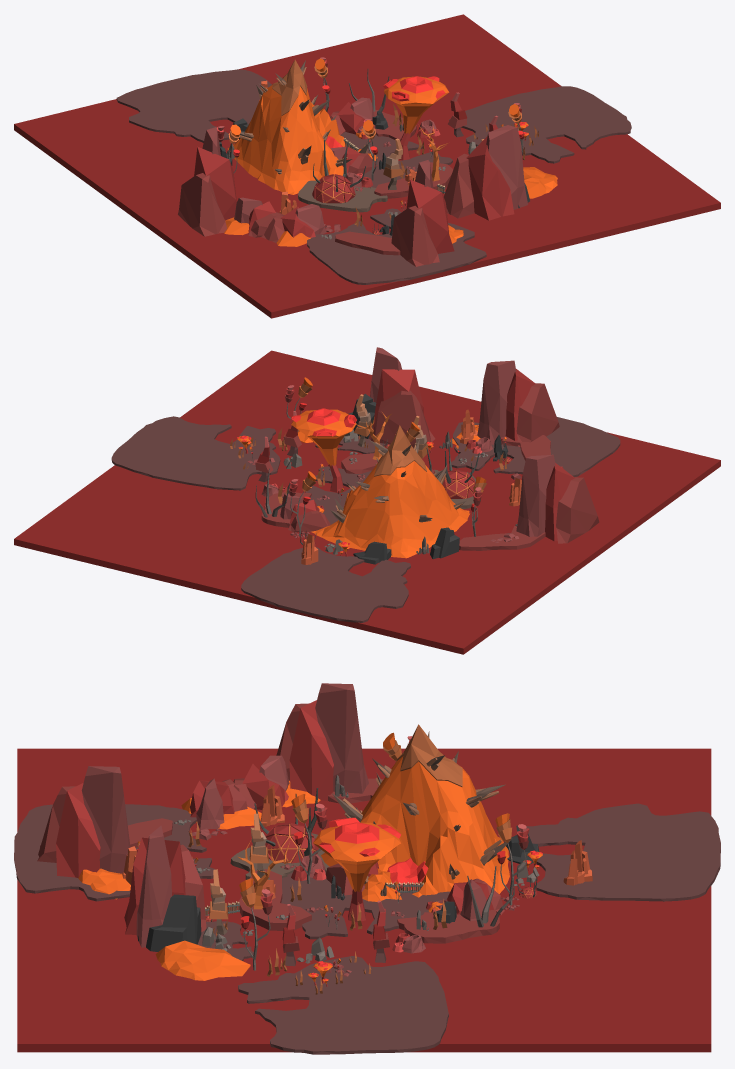
Rendered from Red_Alien_Shelter.fbx.
The picture shows the model from 3 angles, top to bottom: view 1: azimuth 30°, elevation 25°; view 2: azimuth 150°, elevation 25°; view 3: azimuth 270°, elevation 25°; orthographic projection. The views are drawn at different scales.
Visible parts, largest first — view 1: Ground_1, Landscape_2_Ground_1_1, Landscape_Spline_4, Landscape_Spline_5, Rock_9_1, Landscape_Spline_2, Rock_9_2, Rock_9_4, Cylinder_5, Landscape_Spline, Rock_9_5, Cylinder_2 (+10 smaller); view 2: Ground_1, Landscape_2_Ground_1_1, Landscape_Spline_5, Landscape_Spline_4, Rock_9_2, Rock_9_4, Landscape_Spline_2, Rock_9_1, Cylinder_5, Landscape_Spline, Rock_9_9, Landscape_Spline_6 (+9 smaller); view 3: Ground_1, Landscape_Spline_4, Landscape_Spline_5, Landscape_2_Ground_1_1, Rock_9_2, Rock_9_4, Rock_9_1, Landscape_Spline_2, Landscape_Spline, Cylinder_5, Sphere_5, rocks07_1 (+26 smaller).
Part boxes in pixels (x1,y1,x2,y2): Ground_1: (14,14,720,318); Landscape_2_Ground_1_1: (227,59,377,194); Landscape_Spline_4: (449,86,631,163); Landscape_Spline_5: (116,69,271,142); Rock_9_1: (444,125,527,220); Landscape_Spline_2: (307,208,486,284); Rock_9_2: (178,127,236,236); Rock_9_4: (391,160,454,266); Cylinder_5: (383,76,449,160); Landscape_Spline: (340,132,452,188); Rock_9_5: (261,204,326,242); Cylinder_2: (312,140,365,203); Ground_1: (14,350,720,654); Landscape_2_Ground_1_1: (311,425,469,558); Landscape_Spline_5: (241,547,410,622); Landscape_Spline_4: (111,416,280,490); Rock_9_2: (516,454,599,543); Rock_9_4: (477,360,559,446); Landscape_Spline_2: (451,417,620,477); Rock_9_1: (368,347,435,448); Cylinder_5: (291,408,356,492); Landscape_Spline: (305,466,371,524); Rock_9_9: (280,493,330,532); Landscape_Spline_6: (459,526,545,550); Ground_1: (17,748,711,1052); Landscape_Spline_4: (238,956,448,1054); Landscape_Spline_5: (526,803,720,901); Landscape_2_Ground_1_1: (321,724,509,901); Rock_9_2: (276,683,368,801); Rock_9_4: (37,766,130,877); Rock_9_1: (124,825,206,947); Landscape_Spline_2: (14,804,215,901); Landscape_Spline: (281,872,449,939); Cylinder_5: (313,817,400,922); Sphere_5: (155,940,250,980); rocks07_1: (138,894,201,951).
Size of the model in its own units: 2268 by 574 by 2216.
1 material, 1 textured.
